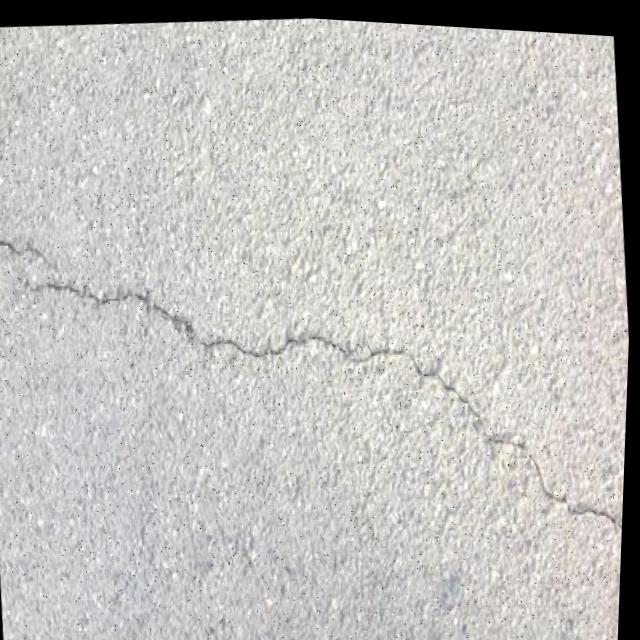Crack: (0, 167, 635, 599)
